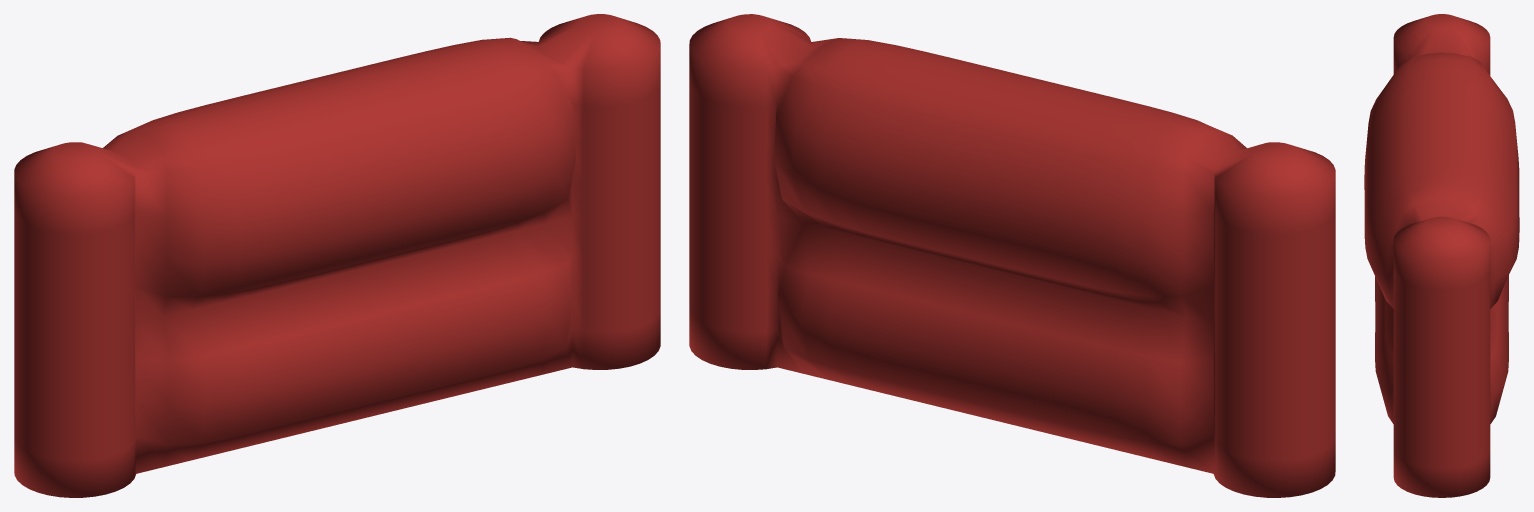
The model's file is bouncy_wall-flat1.fbx.
3 renders of one model, left to right at view 1: azimuth 30°, elevation 25°; view 2: azimuth 150°, elevation 25°; view 3: azimuth 270°, elevation 25°, orthographic. The views are drawn at different scales.
Parts seen in each view (by area): view 1: bouncyWall1; view 2: bouncyWall1; view 3: bouncyWall1.
Part boxes in pixels (x1,y1,x2,y2): bouncyWall1: (14,14,660,497); bouncyWall1: (689,14,1335,497); bouncyWall1: (1364,14,1519,497).
Bounding box in the file's own units: 103 × 50.35 × 27.7.
